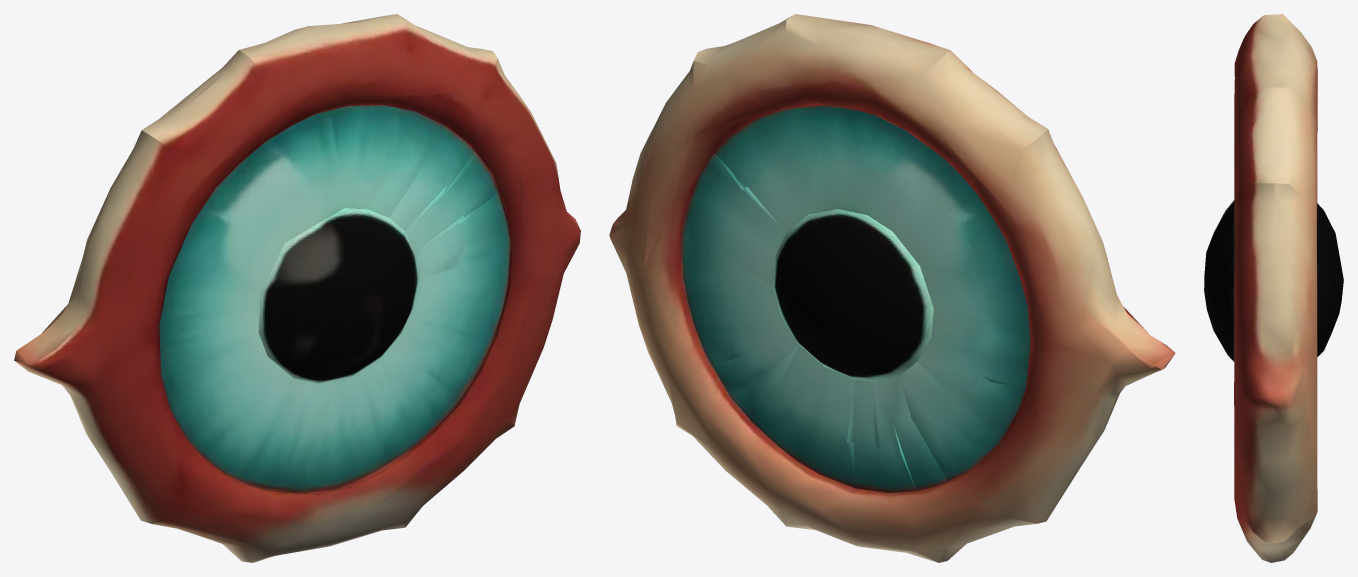
File: monsterEyeball.glb
3 renders of one model, left to right at view 1: azimuth 30°, elevation 25°; view 2: azimuth 150°, elevation 25°; view 3: azimuth 270°, elevation 25°, orthographic. The views are drawn at different scales.
Parts seen in each view (by area): view 1: model; view 2: model; view 3: model.
Boxes of the visible parts, box(x1,y1,x2,y2) form: model: box(14, 14, 580, 562); model: box(609, 14, 1175, 562); model: box(1204, 14, 1343, 562).
Size of the model in its own units: 1.9 by 1.68 by 0.4416.
1 material, 1 textured.
